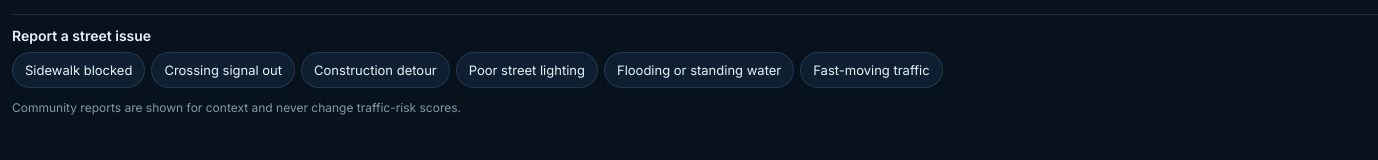
Test case: StreetReports › shows other posting errors without hiding the section
Click the button "Sidewalk blocked": point(79, 70) [12,52,145,88]
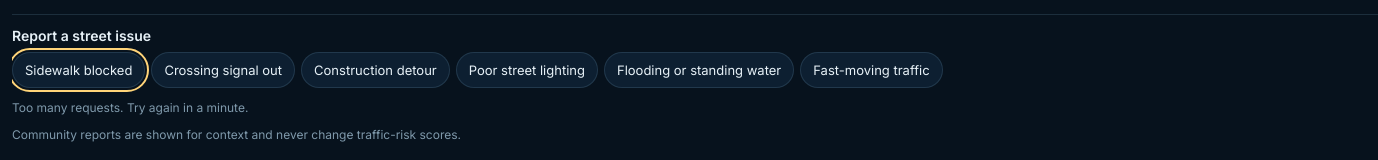
expect the message shows "Too many requests": met, box [12,100,248,115]
